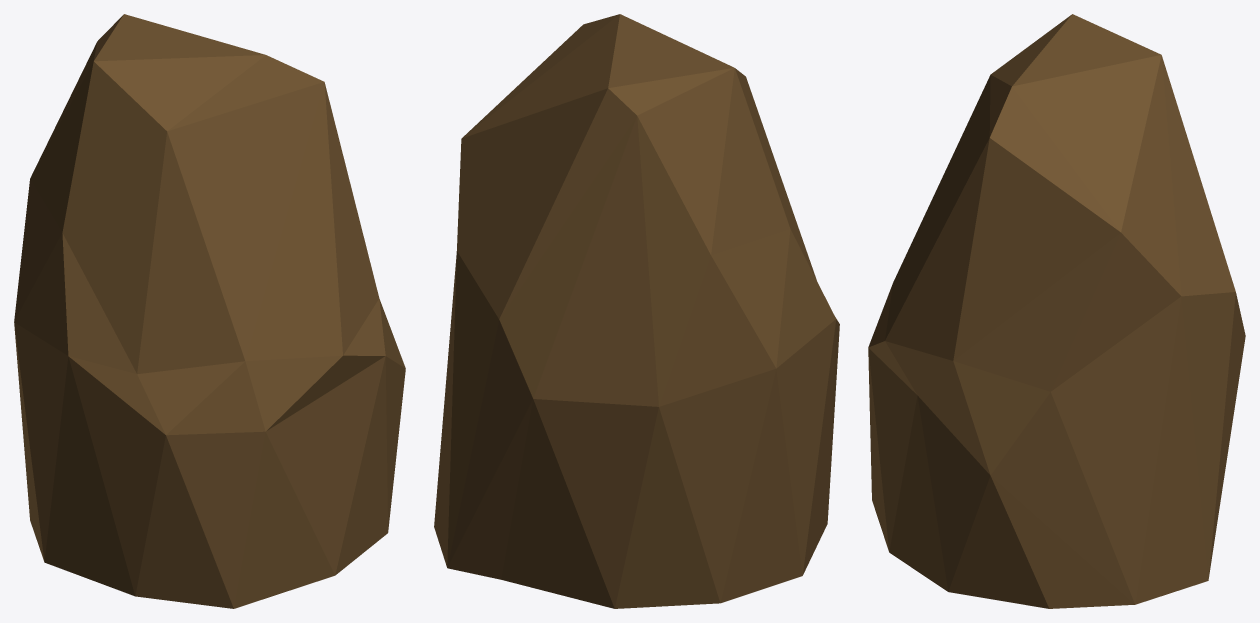
File: Flat Rock 5.fbx
3 views of the same model, side by side, from view 1: azimuth 30°, elevation 25°; view 2: azimuth 150°, elevation 25°; view 3: azimuth 270°, elevation 25° (orthographic). The views are drawn at different scales.
Visible parts, largest first — view 1: Flat Rock 5; view 2: Flat Rock 5; view 3: Flat Rock 5.
Part boxes in pixels (x1,y1,x2,y2): Flat Rock 5: (14, 14, 405, 608); Flat Rock 5: (434, 14, 839, 608); Flat Rock 5: (868, 14, 1245, 608).
Bounding box in the file's own units: 191 × 265 × 194.
